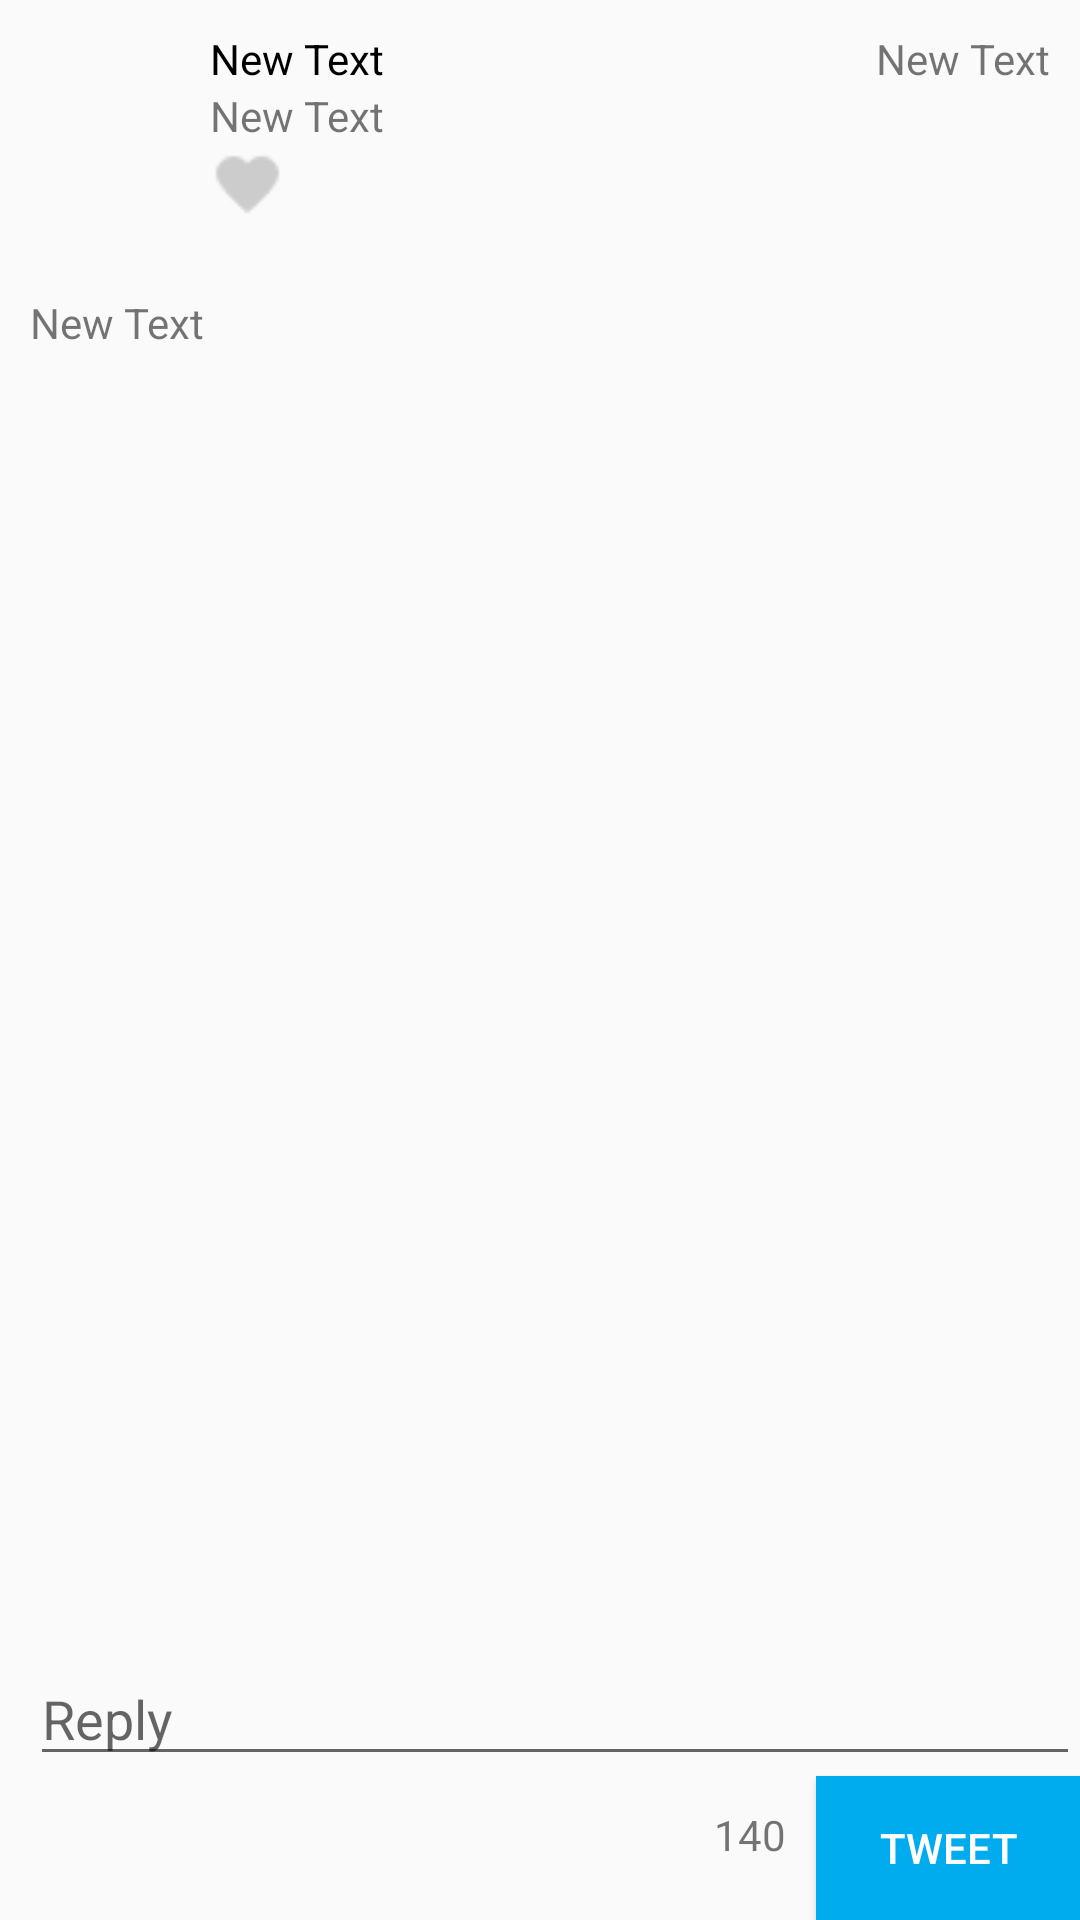

Named icons in this screenshot (1080×1920) and their bounding boxes, (x1, y1, x2, y2):
unfav: (216, 157, 279, 212)
